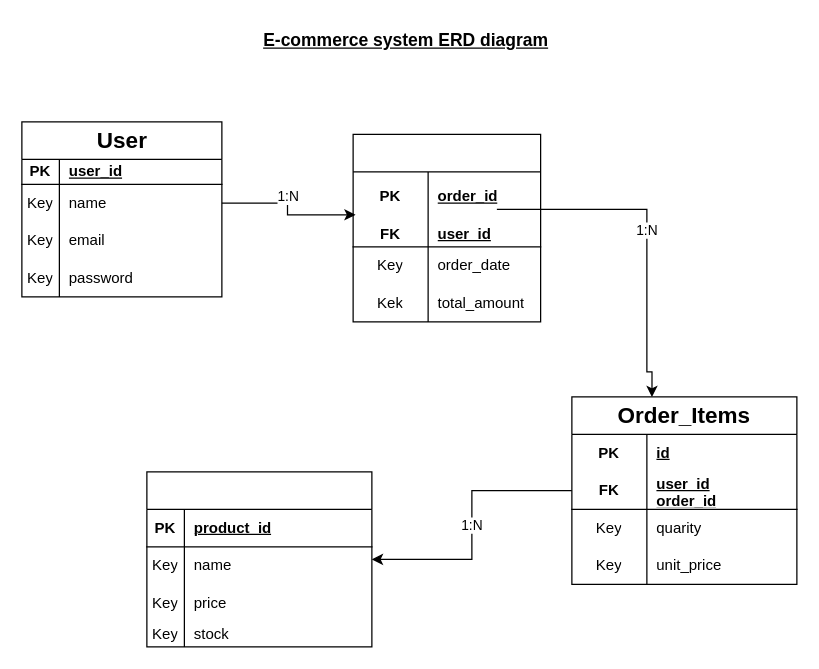
This 819x669 diagram has some shape labels left out. Each missing label, with the box of its shape:
Orders: (352, 133, 541, 322)
Products: (146, 471, 372, 647)
